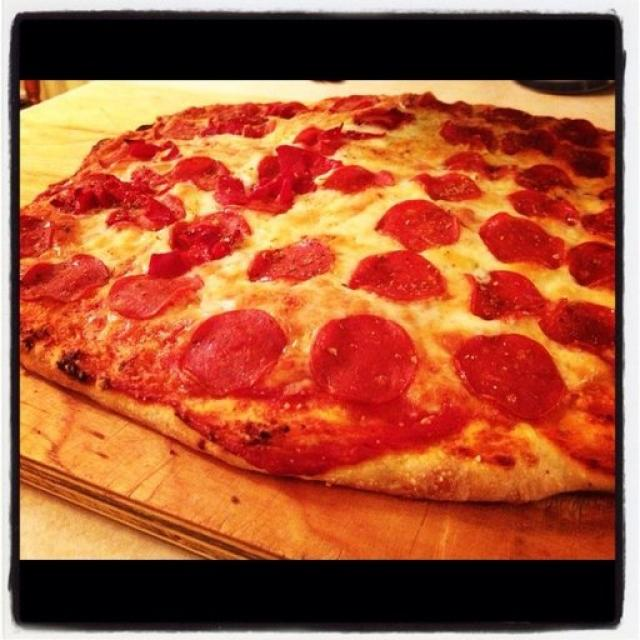Pepperoni: (306, 316, 420, 401), (457, 330, 563, 420), (182, 308, 280, 392), (109, 262, 203, 317), (480, 210, 565, 268), (136, 154, 236, 202), (348, 247, 442, 297), (25, 253, 109, 302), (255, 141, 312, 213), (248, 238, 334, 284), (378, 202, 460, 244), (471, 274, 544, 320), (175, 215, 242, 260), (544, 304, 614, 345), (59, 172, 121, 212), (507, 186, 575, 219), (112, 196, 178, 229), (286, 122, 338, 160), (416, 170, 479, 200), (572, 242, 616, 284), (324, 166, 394, 190), (446, 146, 495, 172), (525, 158, 574, 184)
Pizza: (20, 94, 618, 506)
